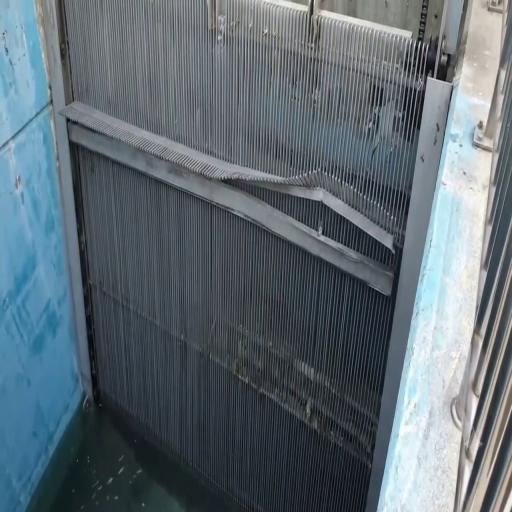rake_broken: (196, 159, 405, 258)
